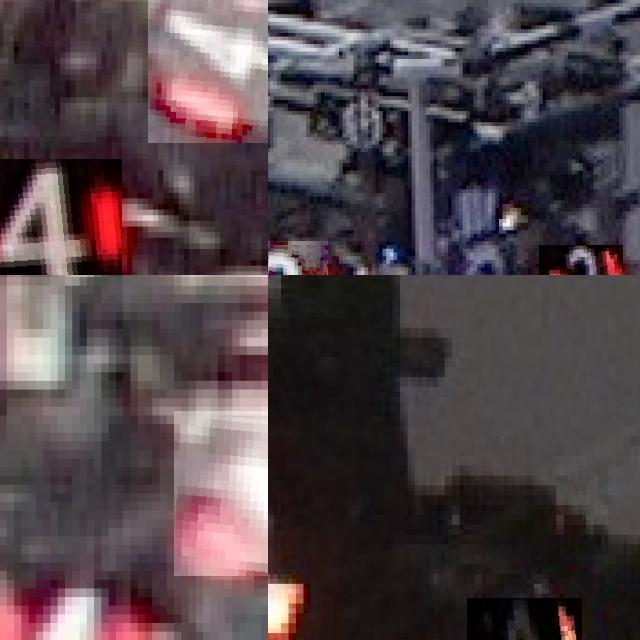R1: (466, 598, 582, 640)
R2: (539, 245, 622, 275), (268, 241, 328, 275)
R4: (147, 0, 268, 142), (174, 411, 268, 575), (0, 159, 122, 275), (0, 562, 156, 640)
